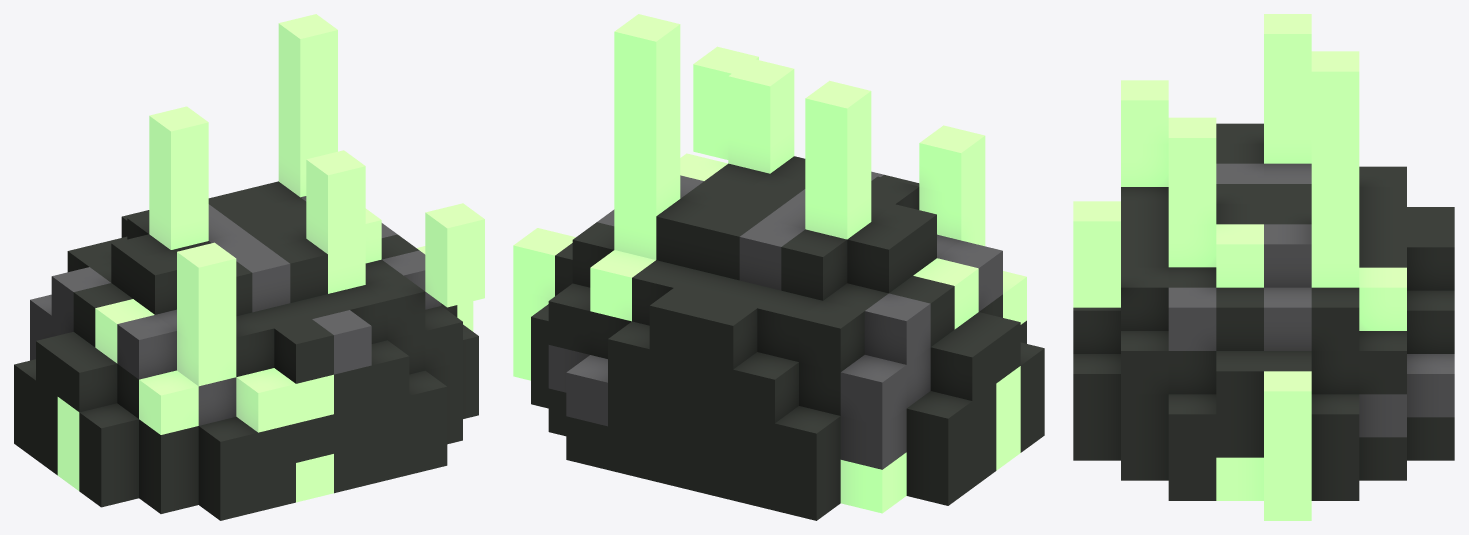
The model's file is r_uranium.glb.
3 renders of one model, left to right at view 1: azimuth 30°, elevation 25°; view 2: azimuth 150°, elevation 25°; view 3: azimuth 270°, elevation 25°, orthographic. The views are drawn at different scales.
Visible parts, largest first — view 1: r_uranium_body; view 2: r_uranium_body; view 3: r_uranium_body.
Part boxes in pixels (x1,y1,x2,y2): r_uranium_body: (14, 14, 484, 520); r_uranium_body: (513, 14, 1044, 520); r_uranium_body: (1073, 14, 1454, 520).
Bounding box in the file's own units: 0.6875 × 0.5625 × 0.5.
Materials: 1 (1 with a texture image).
